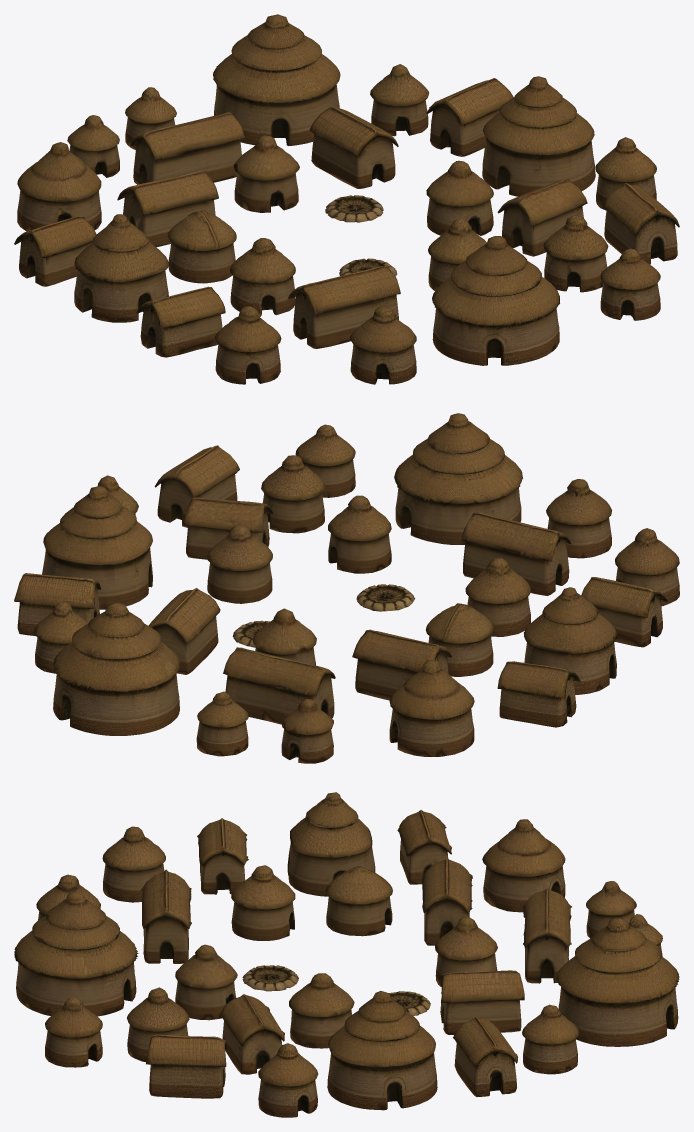
The model's file is Prehistoric Town (Middle Eastern).fbx.
3 views of the same model, one above another, from view 1: azimuth 30°, elevation 25°; view 2: azimuth 150°, elevation 25°; view 3: azimuth 270°, elevation 25° (orthographic). The views are drawn at different scales.
Parts seen in each view (by area): view 1: tripo_node_a116af9e; view 2: tripo_node_a116af9e; view 3: tripo_node_a116af9e.
Part boxes in pixels (bbox=[...]): tripo_node_a116af9e: bbox=[14, 14, 679, 384]; tripo_node_a116af9e: bbox=[14, 413, 679, 763]; tripo_node_a116af9e: bbox=[14, 792, 679, 1117].
Size of the model in its own units: 0.9408 by 0.1706 by 1.
